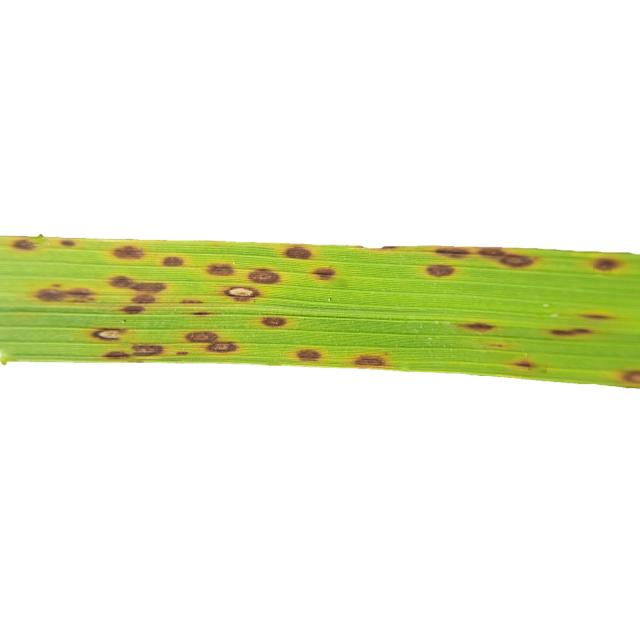Brown spot: (0, 233, 640, 389)
